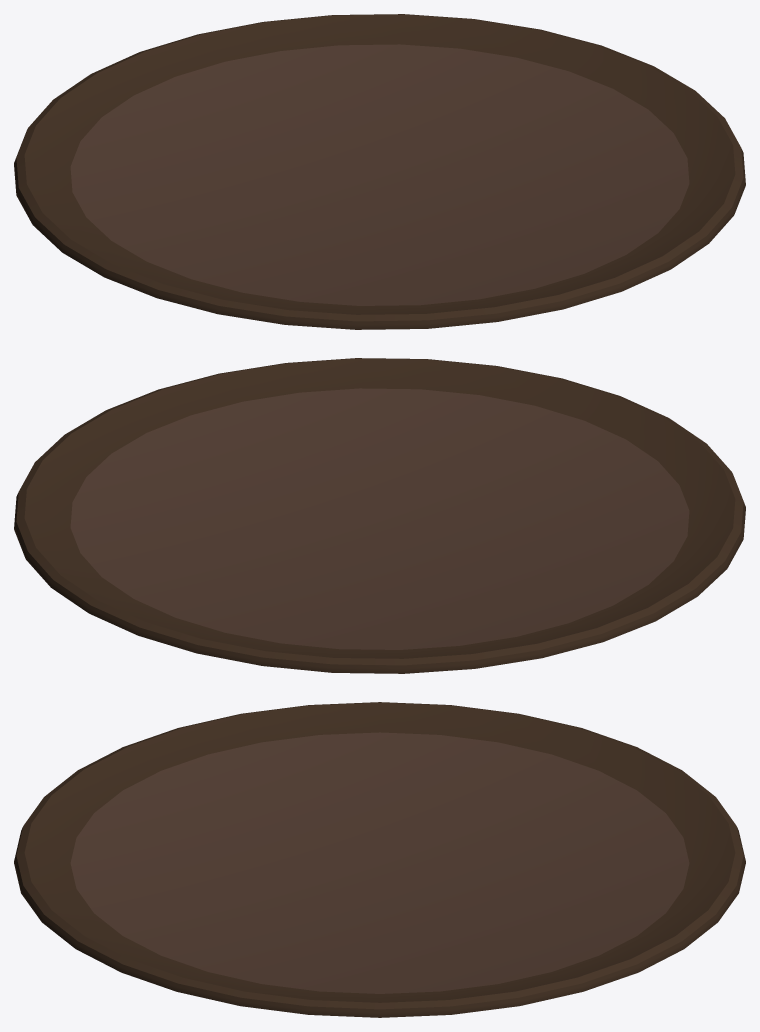
Rendered from Burned Pizza.fbx.
3 views of the same model, one above another, from view 1: azimuth 30°, elevation 25°; view 2: azimuth 150°, elevation 25°; view 3: azimuth 270°, elevation 25° (orthographic).
Parts seen in each view (by area): view 1: Circle; view 2: Circle; view 3: Circle.
Boxes of the visible parts, x1,y1,x2,y2 form: Circle: (14, 14, 745, 329); Circle: (14, 358, 745, 673); Circle: (14, 702, 745, 1017).
Bounding box in the file's own units: 16.36 × 0.2752 × 16.36.
